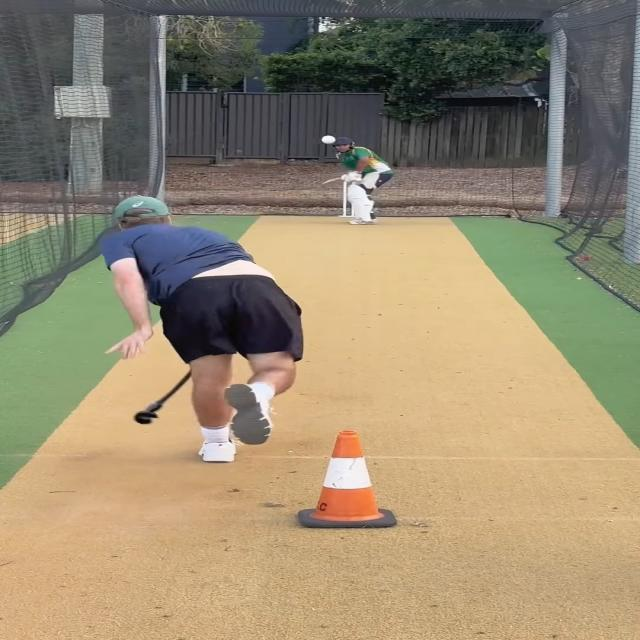Cricket ball: (316, 131, 339, 147)
Stumps: (290, 419, 401, 530)
